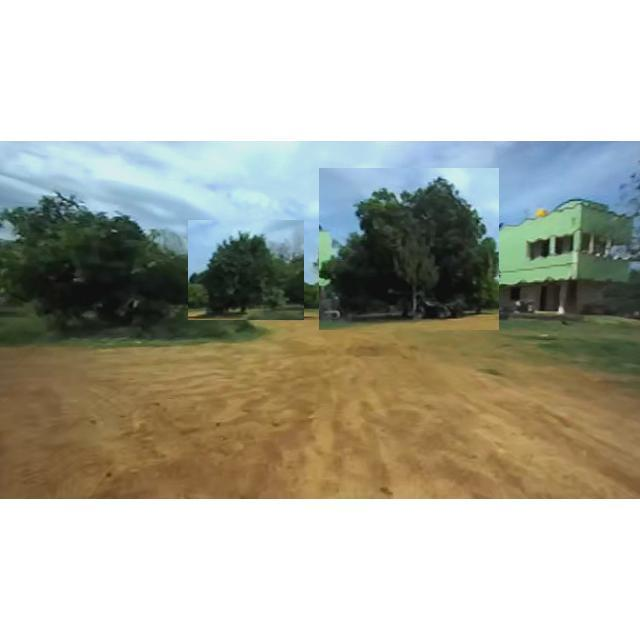tree: (0, 195, 202, 342), (319, 168, 499, 330), (188, 220, 304, 320)
